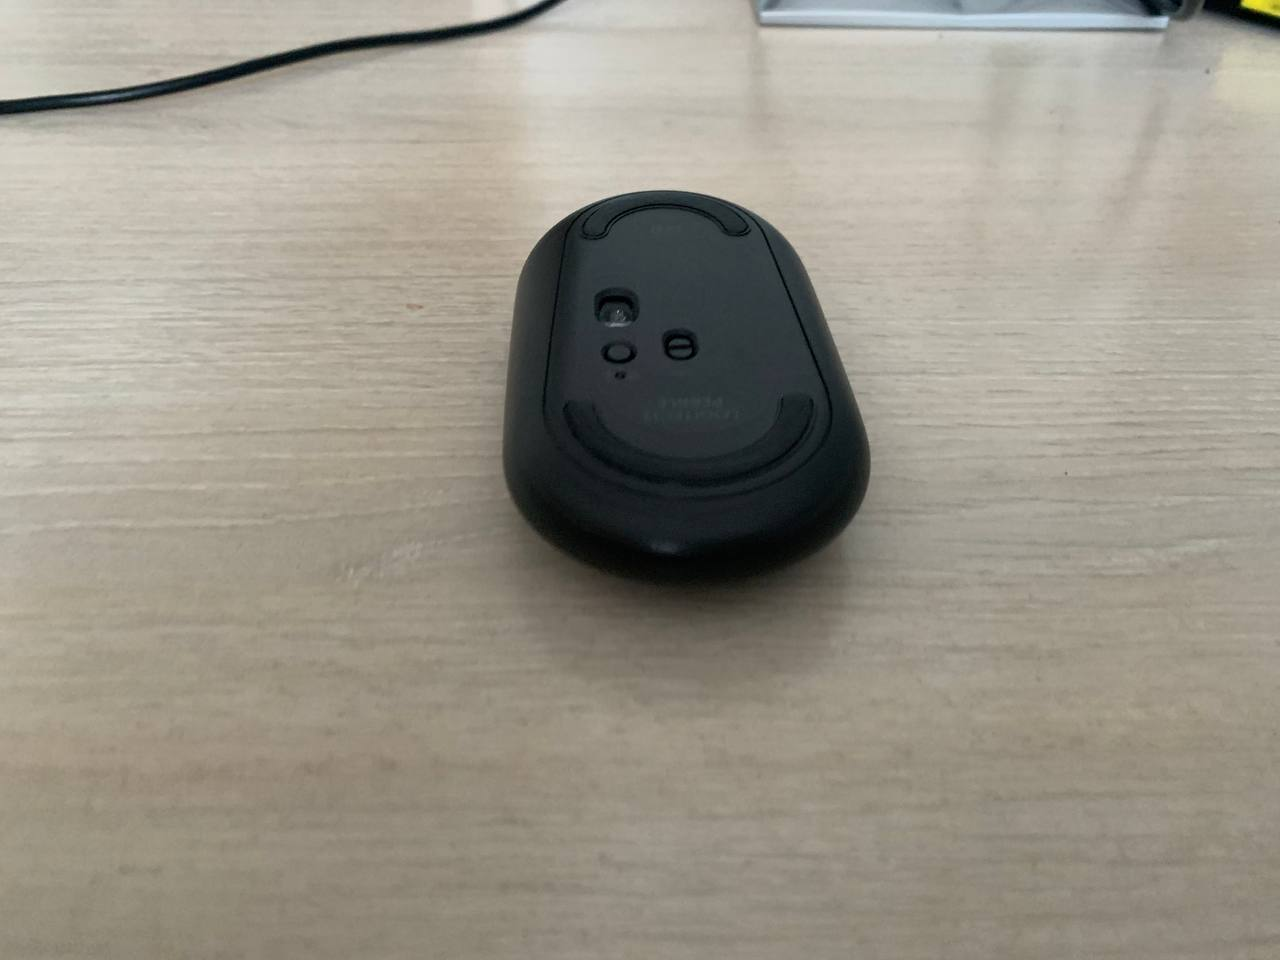mouse: (504, 192, 868, 576)
